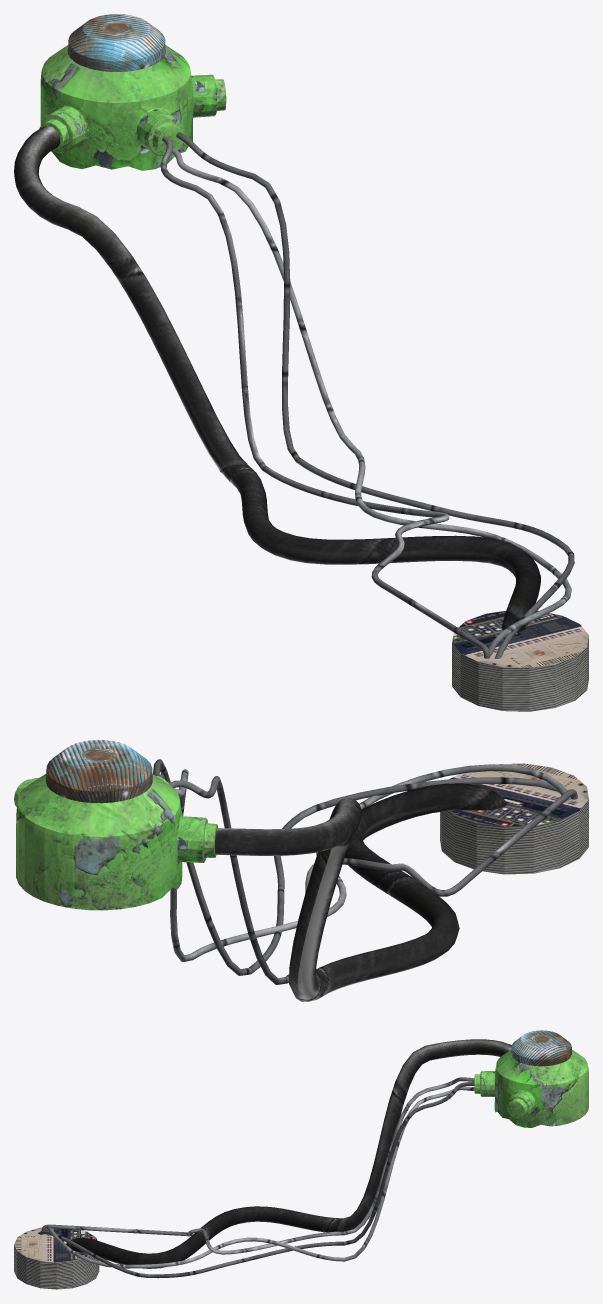
Rendered from kable_up.fbx.
3 renders of one model, top to bottom at view 1: azimuth 30°, elevation 25°; view 2: azimuth 150°, elevation 25°; view 3: azimuth 270°, elevation 25°, orthographic. The views are drawn at different scales.
Parts seen in each view (by area): view 1: Cylinder.002; view 2: Cylinder.002; view 3: Cylinder.002.
Part boxes in pixels (x1=…): Cylinder.002: x1=14, y1=14, x2=588, y2=711; Cylinder.002: x1=14, y1=740, x2=588, y2=1001; Cylinder.002: x1=14, y1=1030, x2=588, y2=1289.
Size of the model in its own units: 428 by 521 by 1186.
Materials: 1 (1 with a texture image).
